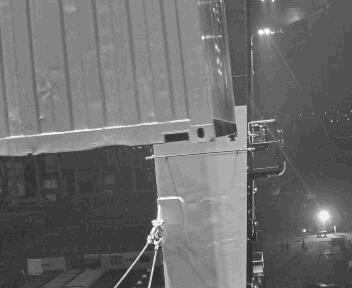twist_lock_1: (227, 130, 243, 145)
